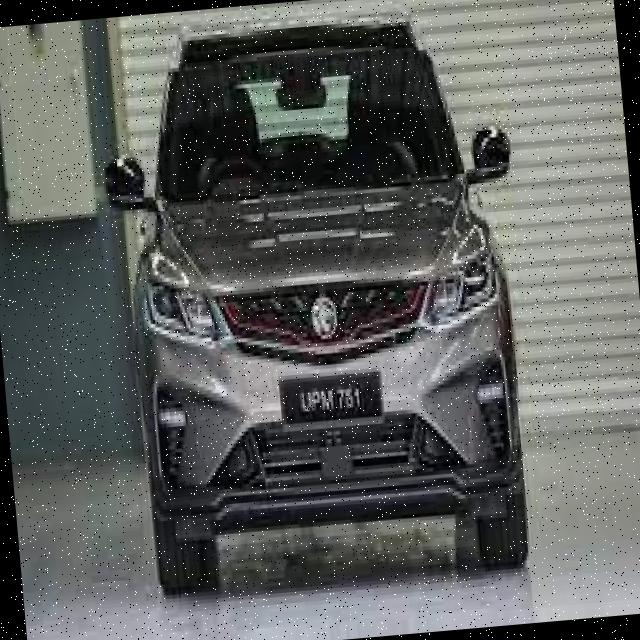License_Plate: (280, 369, 385, 424)
car: (91, 2, 542, 598)
